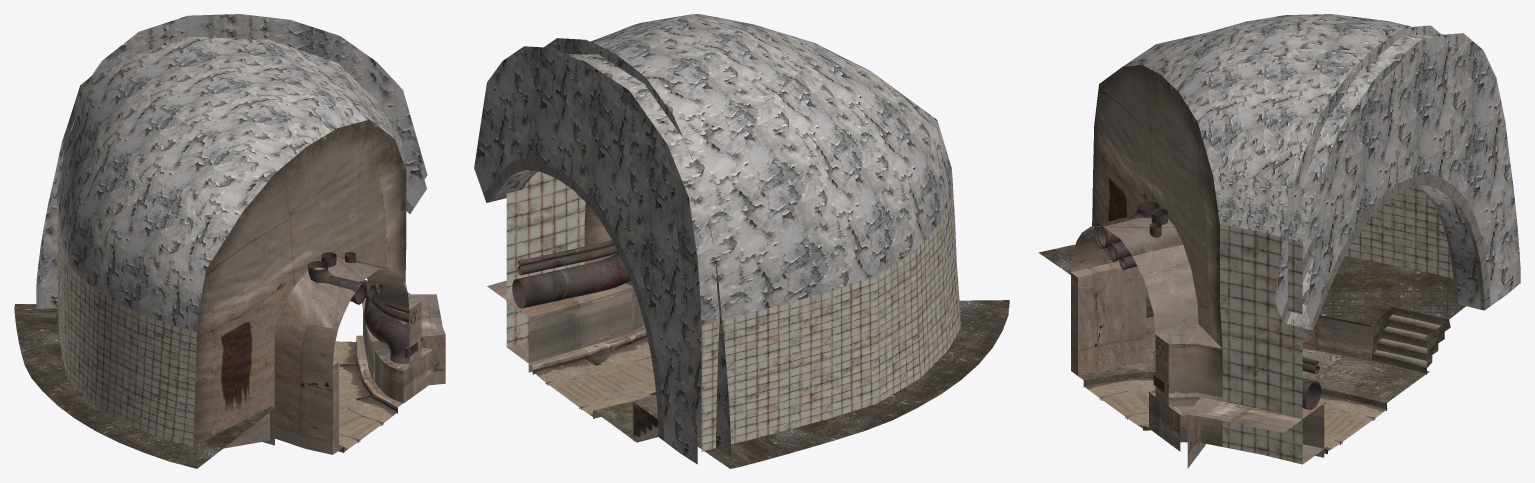
Rendered from FBX_corner_section_c_rev.fbx.
3 renders of one model, left to right at view 1: azimuth 30°, elevation 25°; view 2: azimuth 150°, elevation 25°; view 3: azimuth 270°, elevation 25°, orthographic. The views are drawn at different scales.
Parts seen in each view (by area): view 1: corner_section_c_ceiling, corner_section_c_arch_1, corner_section_c_tile_wall, corner_section_c_arch_2, corner_section_c_upperLevel_floor, corner_section_c_ground, corner_section_c_shelf_b, corner_section_c_shelf_a, corner_section_c_drain_pipe_a, corner_section_c_upperLevel_floor_a, corner_section_c_roof_pipe_a2, corner_section_c_lower_floor_2 (+1 smaller); view 2: corner_section_c_ceiling, corner_section_c_arch_2, corner_section_c_tile_wall, corner_section_c_upperLevel_floor, corner_section_c_shelf_b, corner_section_c_ground, corner_section_c_drain_pipe_a, corner_section_c_arch_2_bricks, corner_section_c_lower_floor_2, corner_section_c_upperLevel_floor_a, corner_section_c_lower_floor_1, corner_section_c_drain_pipe_b (+3 smaller); view 3: corner_section_c_arch_2, corner_section_c_ceiling, corner_section_c_arch_1, corner_section_c_tile_wall, corner_section_c_block, corner_section_c_upperLevel_floor, corner_section_c_lower_floor_1, corner_section_c_ground, corner_section_c_arch_2_bricks, corner_section_c_steps, corner_section_c_shelf_b, corner_section_c_sideWall (+5 smaller).
Boxes of the visible parts, x1,y1,x2,y2 form: corner_section_c_ceiling: (57, 30, 405, 331); corner_section_c_arch_1: (193, 119, 421, 454); corner_section_c_tile_wall: (57, 199, 405, 446); corner_section_c_arch_2: (36, 14, 427, 309); corner_section_c_upperLevel_floor: (16, 329, 275, 468); corner_section_c_ground: (333, 341, 397, 451); corner_section_c_shelf_b: (362, 294, 445, 385); corner_section_c_shelf_a: (374, 347, 432, 402); corner_section_c_drain_pipe_a: (364, 298, 409, 363); corner_section_c_upperLevel_floor_a: (14, 304, 58, 330); corner_section_c_roof_pipe_a2: (308, 261, 367, 304); corner_section_c_lower_floor_2: (356, 335, 403, 413); corner_section_c_ceiling: (566, 14, 952, 325); corner_section_c_arch_2: (474, 38, 730, 464); corner_section_c_tile_wall: (506, 171, 960, 451); corner_section_c_upperLevel_floor: (764, 300, 1009, 453); corner_section_c_shelf_b: (487, 280, 633, 372); corner_section_c_ground: (534, 336, 655, 417); corner_section_c_drain_pipe_a: (512, 253, 631, 308); corner_section_c_arch_2_bricks: (483, 159, 663, 440); corner_section_c_lower_floor_2: (507, 325, 646, 374); corner_section_c_upperLevel_floor_a: (697, 435, 789, 468); corner_section_c_lower_floor_1: (593, 394, 658, 442); corner_section_c_drain_pipe_b: (517, 245, 618, 275); corner_section_c_arch_2: (1274, 25, 1520, 329); corner_section_c_ceiling: (1123, 14, 1443, 241); corner_section_c_arch_1: (1071, 65, 1222, 446); corner_section_c_tile_wall: (1220, 186, 1453, 464); corner_section_c_block: (1071, 262, 1146, 375); corner_section_c_upperLevel_floor: (1038, 244, 1430, 326); corner_section_c_lower_floor_1: (1073, 348, 1429, 410); corner_section_c_ground: (1083, 376, 1387, 452); corner_section_c_arch_2_bricks: (1281, 174, 1490, 330); corner_section_c_steps: (1371, 306, 1450, 374); corner_section_c_shelf_b: (1187, 397, 1325, 468); corner_section_c_sideWall: (1146, 316, 1371, 360).
Size of the model in its own units: 22.13 by 21.34 by 17.43.
